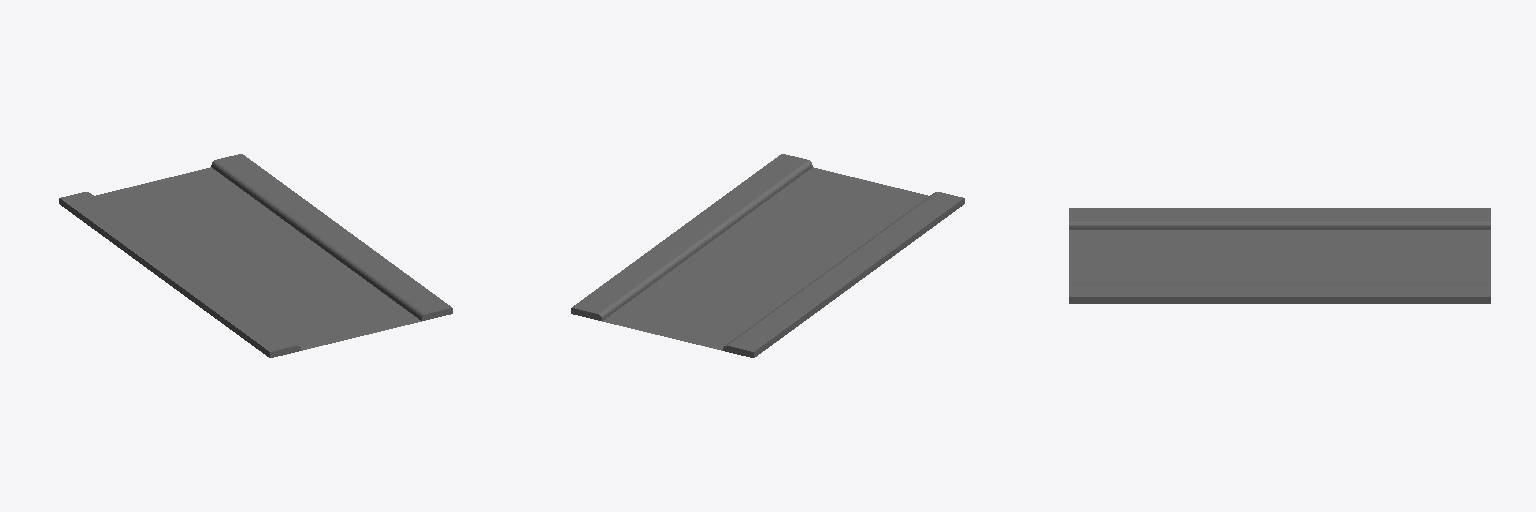
File: road.obj
3 renders of one model, left to right at view 1: azimuth 30°, elevation 25°; view 2: azimuth 150°, elevation 25°; view 3: azimuth 270°, elevation 25°, orthographic.
Visible parts, largest first — view 1: Plane01_Untitled; view 2: Plane01_Untitled; view 3: Plane01_Untitled.
Part boxes in pixels (bbox=[...]): Plane01_Untitled: bbox=[59, 154, 452, 357]; Plane01_Untitled: bbox=[571, 154, 964, 357]; Plane01_Untitled: bbox=[1069, 208, 1490, 303].
Size of the model in its own units: 0.06 by 0.002 by 0.12.